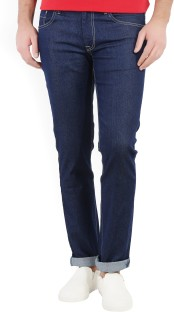Jeans: (28, 5, 154, 281)
